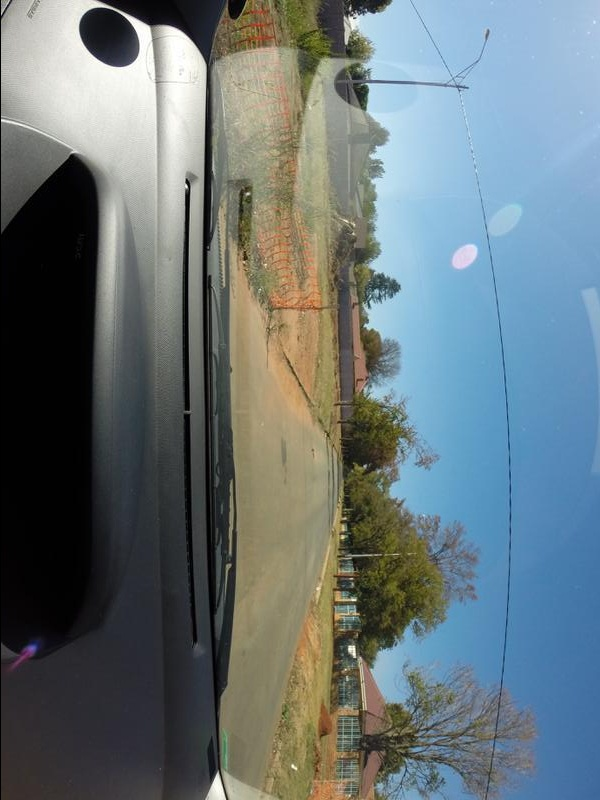pothole: (298, 443, 321, 466)
